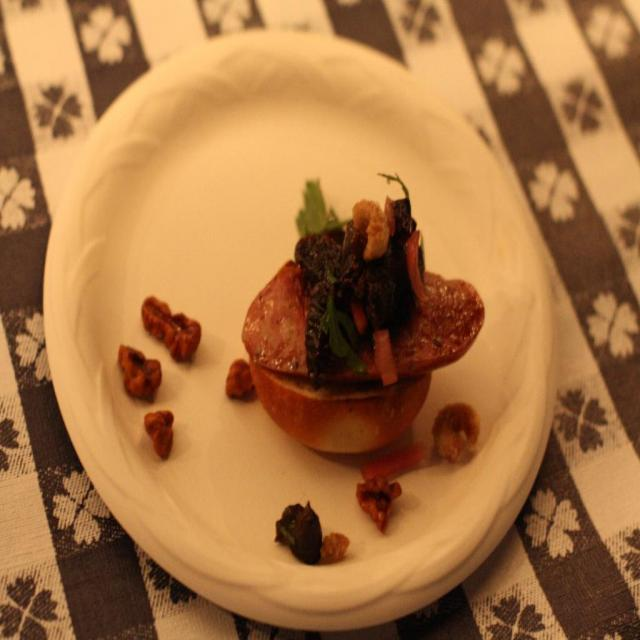non-organic waste: (49, 32, 560, 615)
